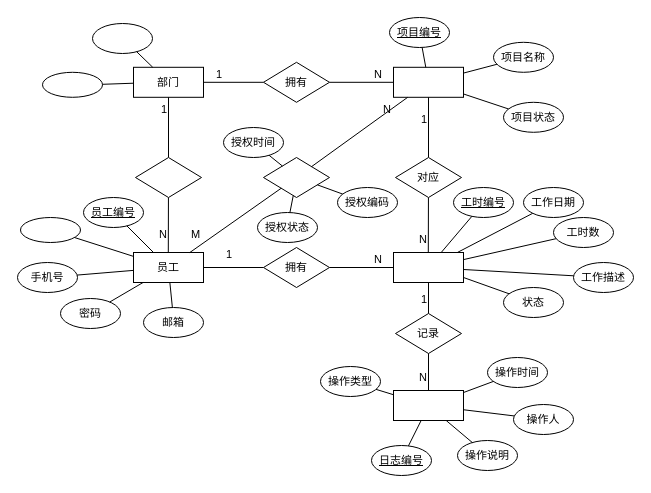
Some shapes in this 651 by 493 pixel diagram are drawn without their labels. The centre of each missing label's shape, as x and y in pixels:
参与: the point at 296,177
姓名: the point at 50,229
工时操作日志: the point at 428,405
工时申报单: the point at 428,267
部门名称: the point at 122,38
部门编号: the point at 72,84
隶属: the point at 168,177
项目: the point at 428,81
